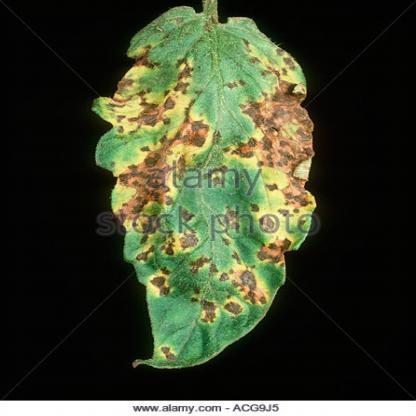Tomato Septoria leaf spot: (83, 6, 333, 373)
